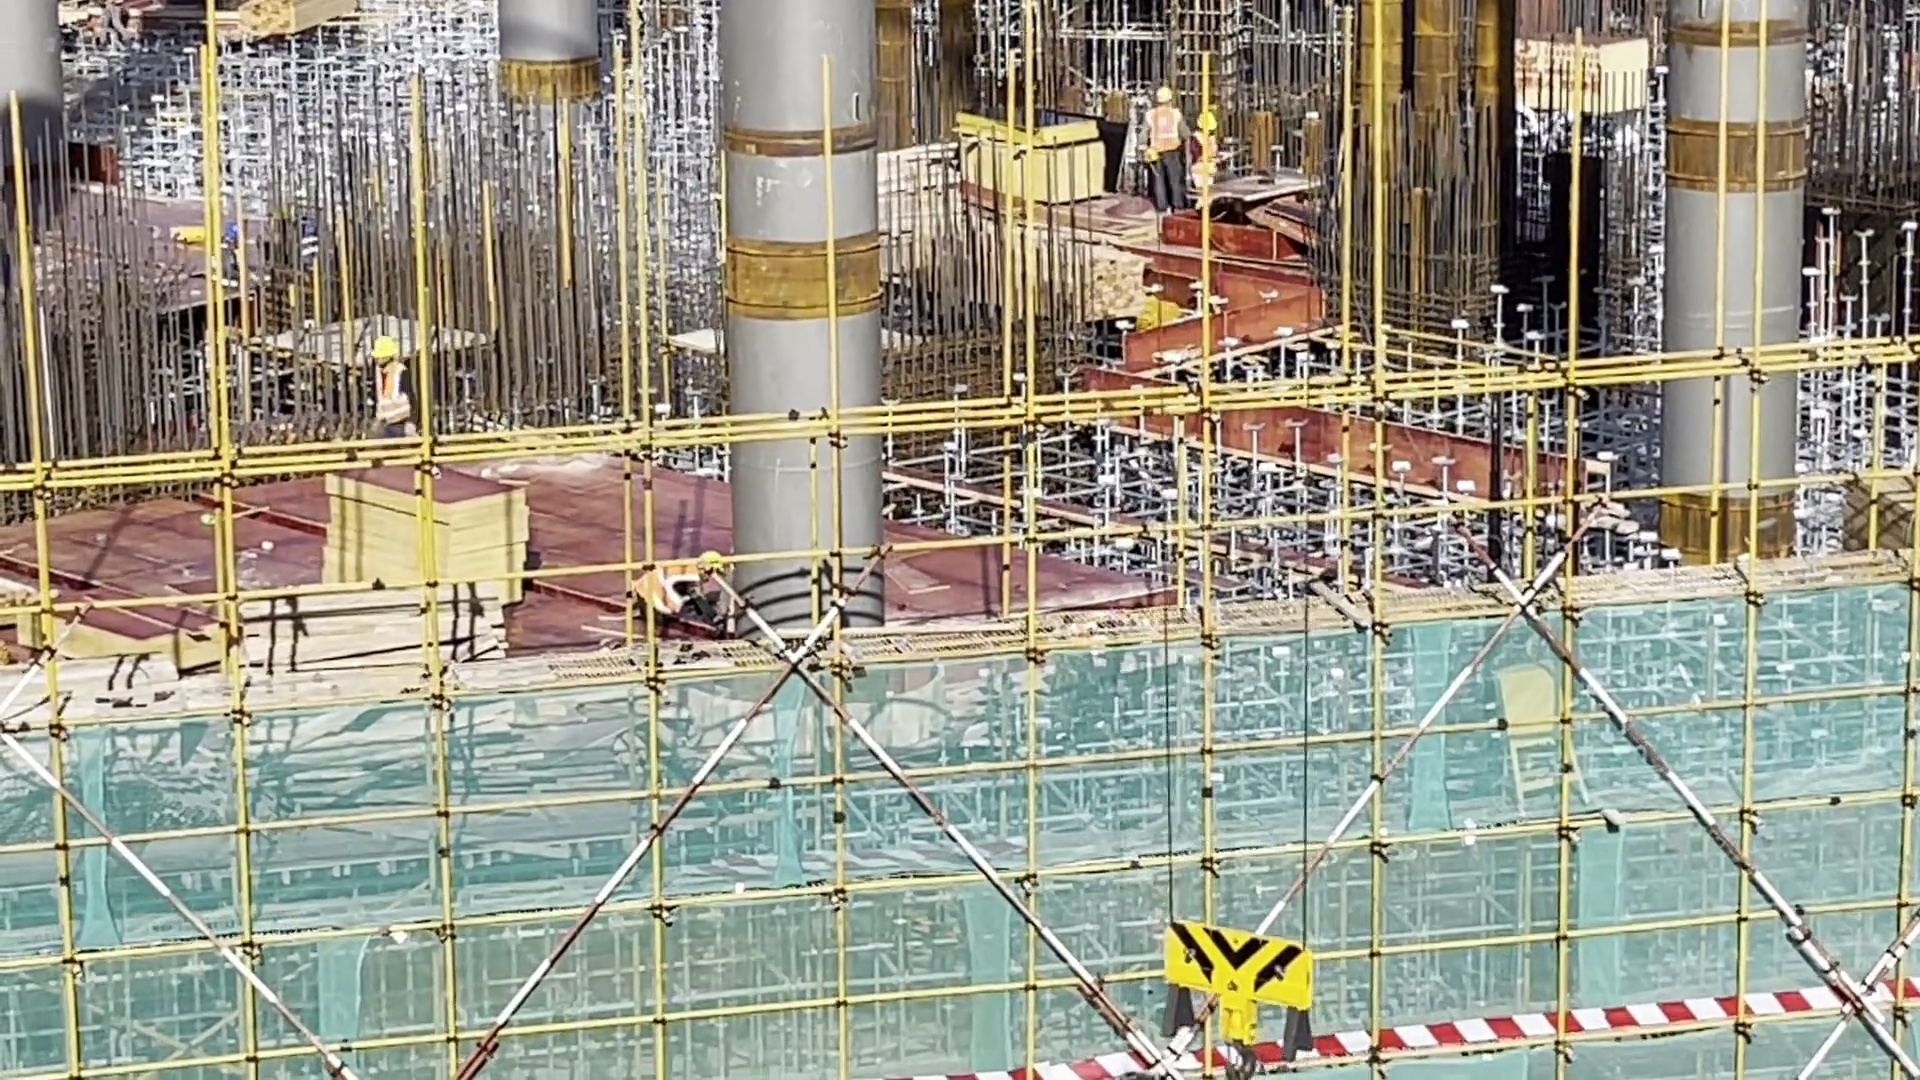board: (308, 455, 544, 620), (954, 102, 1105, 209), (1837, 466, 1920, 566)
ebox: (1487, 652, 1590, 809)
helmet: (702, 549, 728, 583), (369, 334, 397, 360), (1196, 107, 1216, 134), (1156, 82, 1175, 107)
hook: (1144, 909, 1335, 1080)
person: (623, 541, 730, 645), (365, 326, 433, 462), (1145, 70, 1198, 233), (1190, 105, 1234, 213)
vest: (626, 555, 702, 618), (374, 361, 415, 429), (1146, 104, 1184, 154)
wood: (234, 577, 506, 689), (218, 1, 359, 57)
